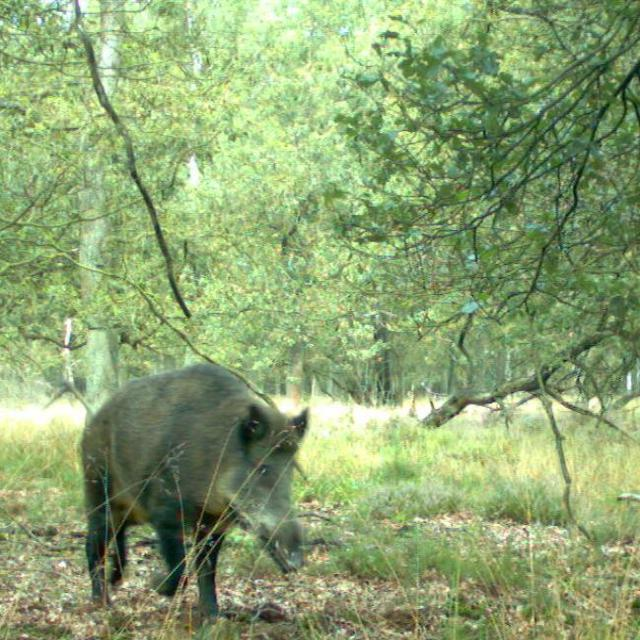pig: (54, 344, 344, 631)
